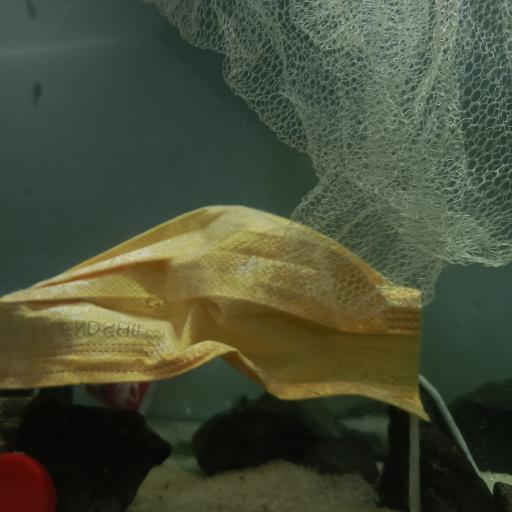bottle_cap: (0, 450, 57, 512)
mask: (0, 202, 496, 446)
net: (155, 0, 512, 326)
plastic_bottle: (81, 368, 250, 417)
